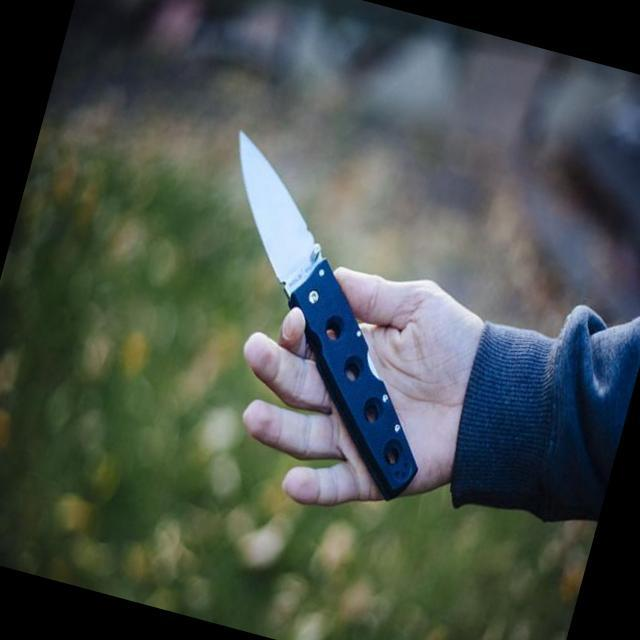Knife: (154, 112, 448, 475)
